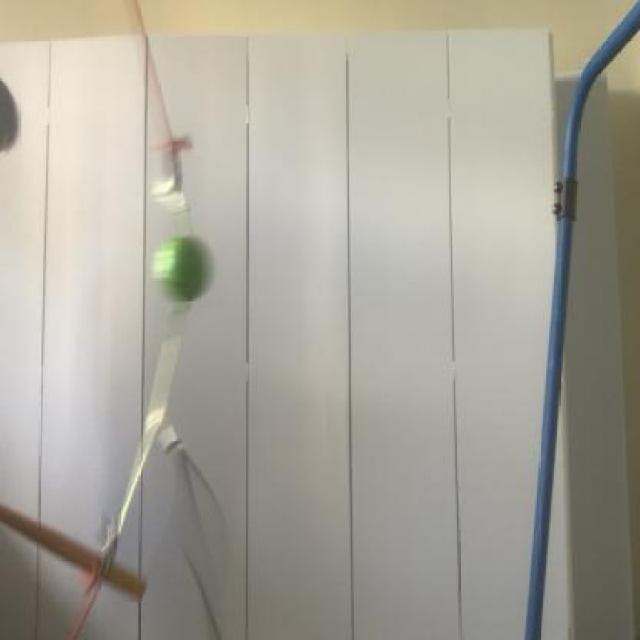baseball: (143, 228, 220, 308)
